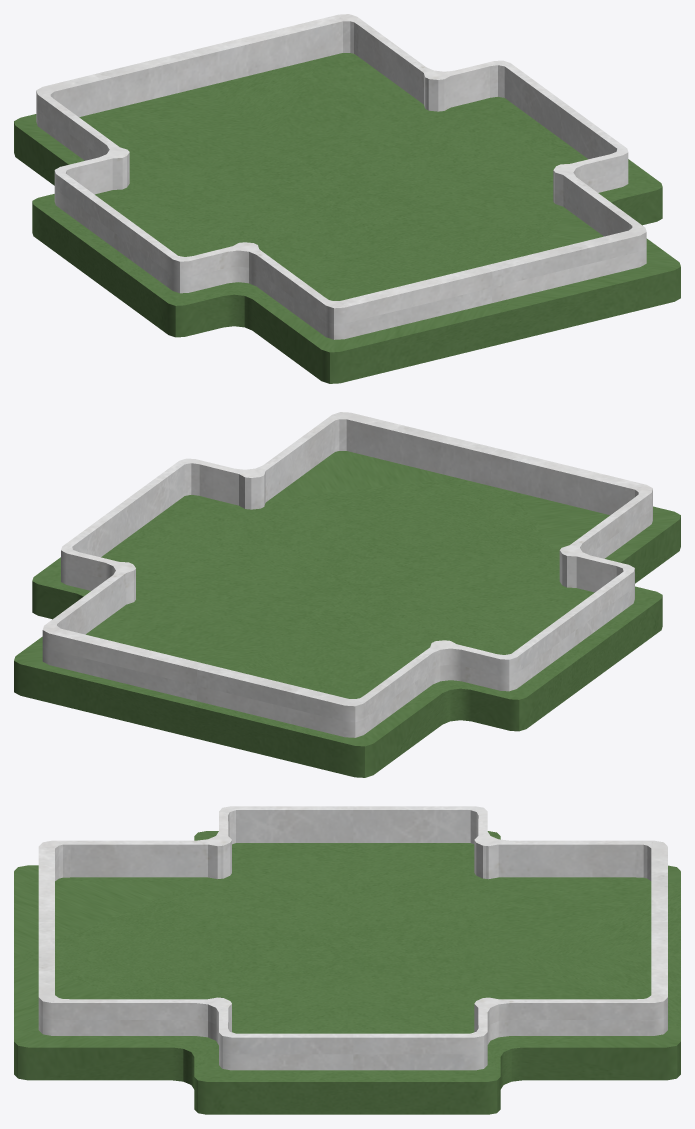
File: Rooftop.fbx
3 views of the same model, one above another, from view 1: azimuth 30°, elevation 25°; view 2: azimuth 150°, elevation 25°; view 3: azimuth 270°, elevation 25° (orthographic). The views are drawn at different scales.
Visible parts, largest first — view 1: Rooftop, RoofttopRailing; view 2: Rooftop, RoofttopRailing; view 3: Rooftop, RoofttopRailing.
Boxes of the visible parts, x1,y1,x2,y2 form: Rooftop: (14,53,680,383); RoofttopRailing: (36,14,646,339); Rooftop: (14,451,680,777); RoofttopRailing: (42,412,652,737); Rooftop: (14,831,680,1114); RoofttopRailing: (38,806,667,1070).
Size of the model in its own units: 1635 by 200 by 1838.
Materials: 1 (1 with a texture image).
